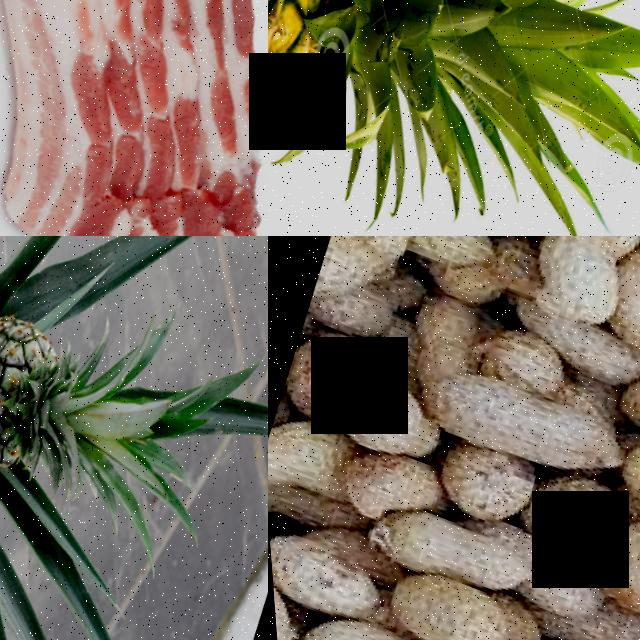peanuts: (413, 356, 632, 494), (363, 498, 530, 603), (518, 236, 640, 333), (371, 561, 513, 640), (591, 237, 640, 368), (277, 603, 442, 640)
pineapple: (268, 0, 546, 222), (0, 298, 101, 501)
pork belly: (0, 0, 268, 236)
